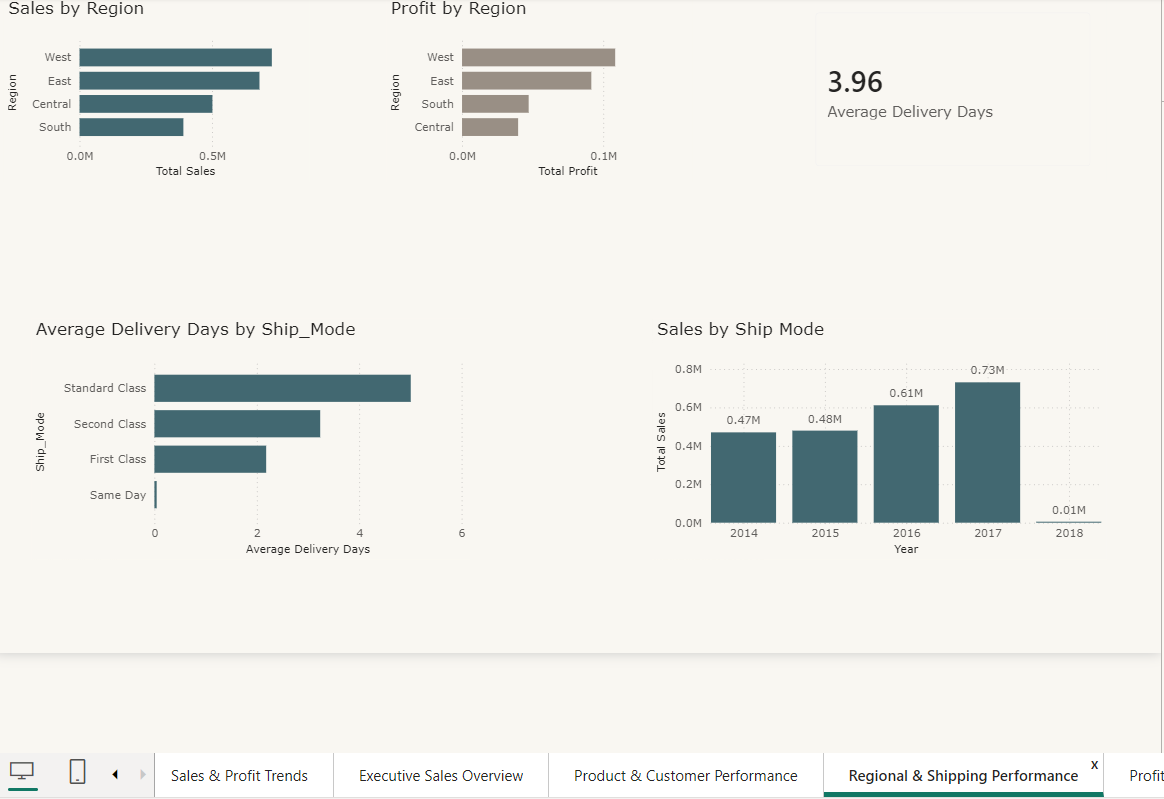

Layout of this report page (visuals, bound fields, positions):
{"tool":"powerbi","page":{"name":" Regional & Shipping Performance","canvas":[1280,720],"ordinal":3},"visuals":[{"type":"barChart","title":" Sales by Region","fields":{"Category":["vw_Sales_Region.Region"],"Y":["_Measures.Total Sales"]},"box":[9.6,0,336.2,203.1],"z":0},{"type":"barChart","title":" Profit by Region","fields":{"Category":["vw_Sales_Region.Region"],"Y":["_Measures.Total Profit"]},"box":[429.5,0,336,203],"z":1},{"type":"columnChart","title":"Sales by Ship Mode","fields":{"Category":["vw_Sales_Clean.Ship_Date.Variation.Date Hierarchy.Year","vw_Sales_Clean.Ship_Date.Variation.Date Hierarchy.Quarter","vw_Sales_Clean.Ship_Date.Variation.Date Hierarchy.Month","vw_Sales_Clean.Ship_Date.Variation.Date Hierarchy.Day"],"Y":["_Measures.Total Sales"]},"box":[721.8,352.7,498.1,264.8],"z":2},{"type":"cardVisual","fields":{"Data":["_Measures.Average Delivery Days"]},"box":[883.7,0,336,203],"z":4},{"type":"barChart","fields":{"Category":["vw_Sales_Clean.Ship_Mode"],"Y":["_Measures.Average Delivery Days"]},"box":[39.8,352.7,481.6,264.8],"z":5}]}

Visuals, with their boxes on the page's 1280x720 design canvas (x1, y1, x2, y2). These are canvas units, not pixel positions in the 1164x799 screenshot, which may show the page scaled, cropped or inside an application window:
" Sales by Region" barChart: box=[10, 0, 346, 203]
" Profit by Region" barChart: box=[430, 0, 766, 203]
"Sales by Ship Mode" columnChart: box=[722, 353, 1220, 618]
cardVisual - _Measures.Average Delivery Days: box=[884, 0, 1220, 203]
barChart - vw_Sales_Clean.Ship_Mode x _Measures.Average Delivery Days: box=[40, 353, 521, 618]
